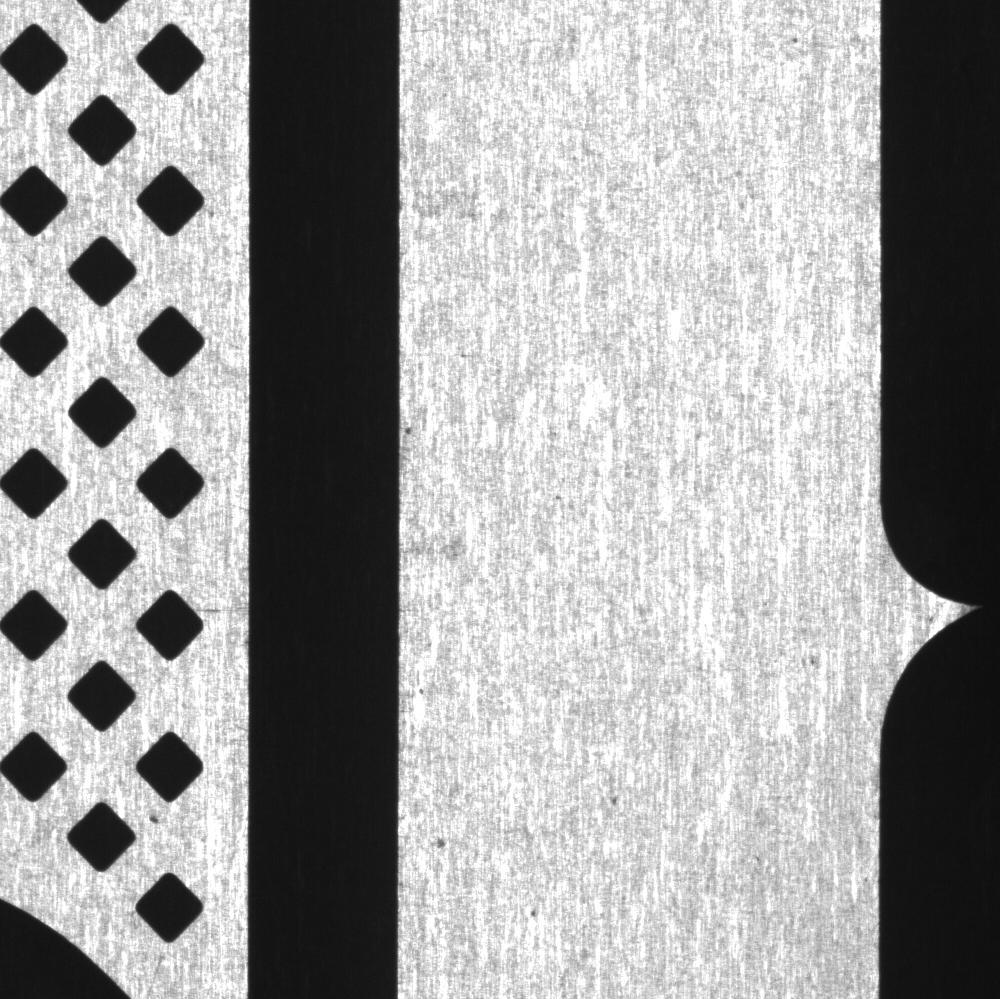Etching: (421, 826, 453, 861), (143, 808, 171, 831), (600, 791, 627, 813)
Pinhole: (400, 418, 426, 444), (522, 903, 549, 924)
